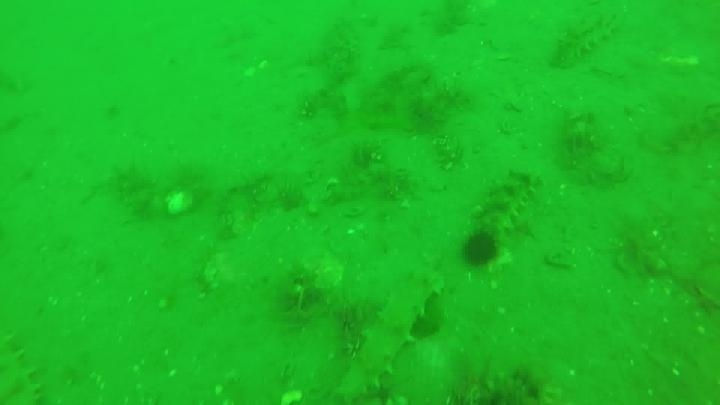echinus: (459, 228, 502, 270)
holothurian: (333, 268, 444, 404), (473, 167, 542, 238), (547, 11, 623, 70), (1, 330, 44, 405)
scallop: (292, 249, 346, 297)
